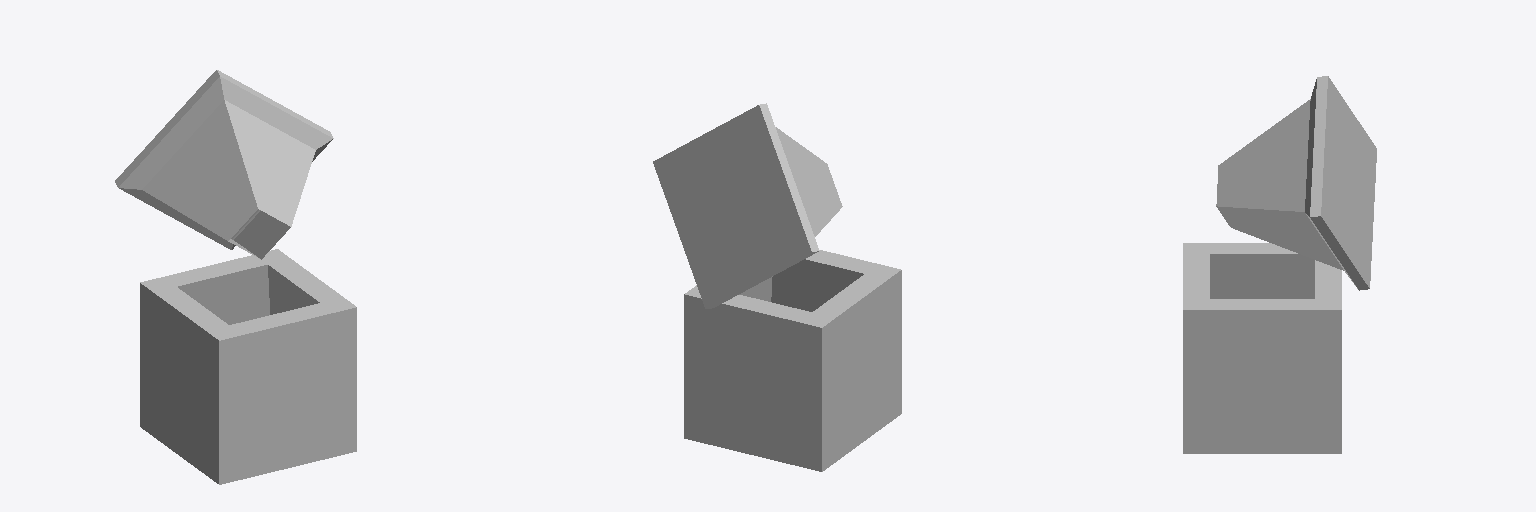
Rendered from AnimatedBox_000047.obj.
3 renders of one model, left to right at view 1: azimuth 30°, elevation 25°; view 2: azimuth 150°, elevation 25°; view 3: azimuth 270°, elevation 25°, orthographic.
Parts seen in each view (by area): view 1: Cube, Cube.001; view 2: Cube, Cube.001; view 3: Cube, Cube.001.
Boxes of the visible parts, x1=… form: Cube: x1=140, y1=249, x2=356, y2=484; Cube.001: x1=115, y1=70, x2=333, y2=259; Cube: x1=684, y1=250, x2=901, y2=471; Cube.001: x1=653, y1=103, x2=842, y2=308; Cube: x1=1183, y1=243, x2=1341, y2=453; Cube.001: x1=1216, y1=76, x2=1376, y2=290.
Size of the model in its own units: 2.75 by 4.79 by 2.44.